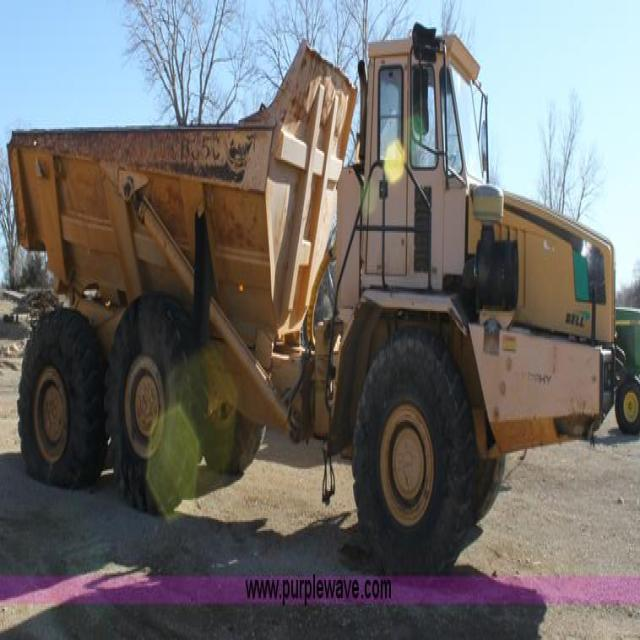dump_truck: (13, 23, 620, 574)
